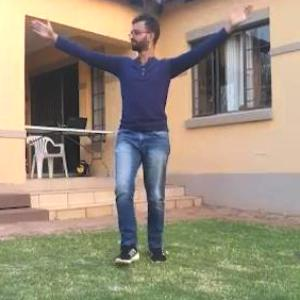takeoff: (8, 0, 235, 286)
